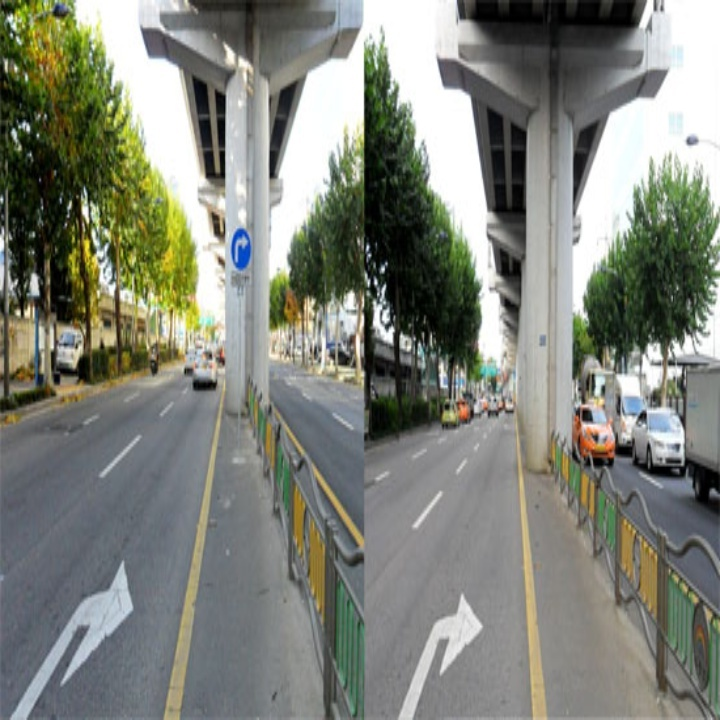right: (233, 234, 250, 264)
